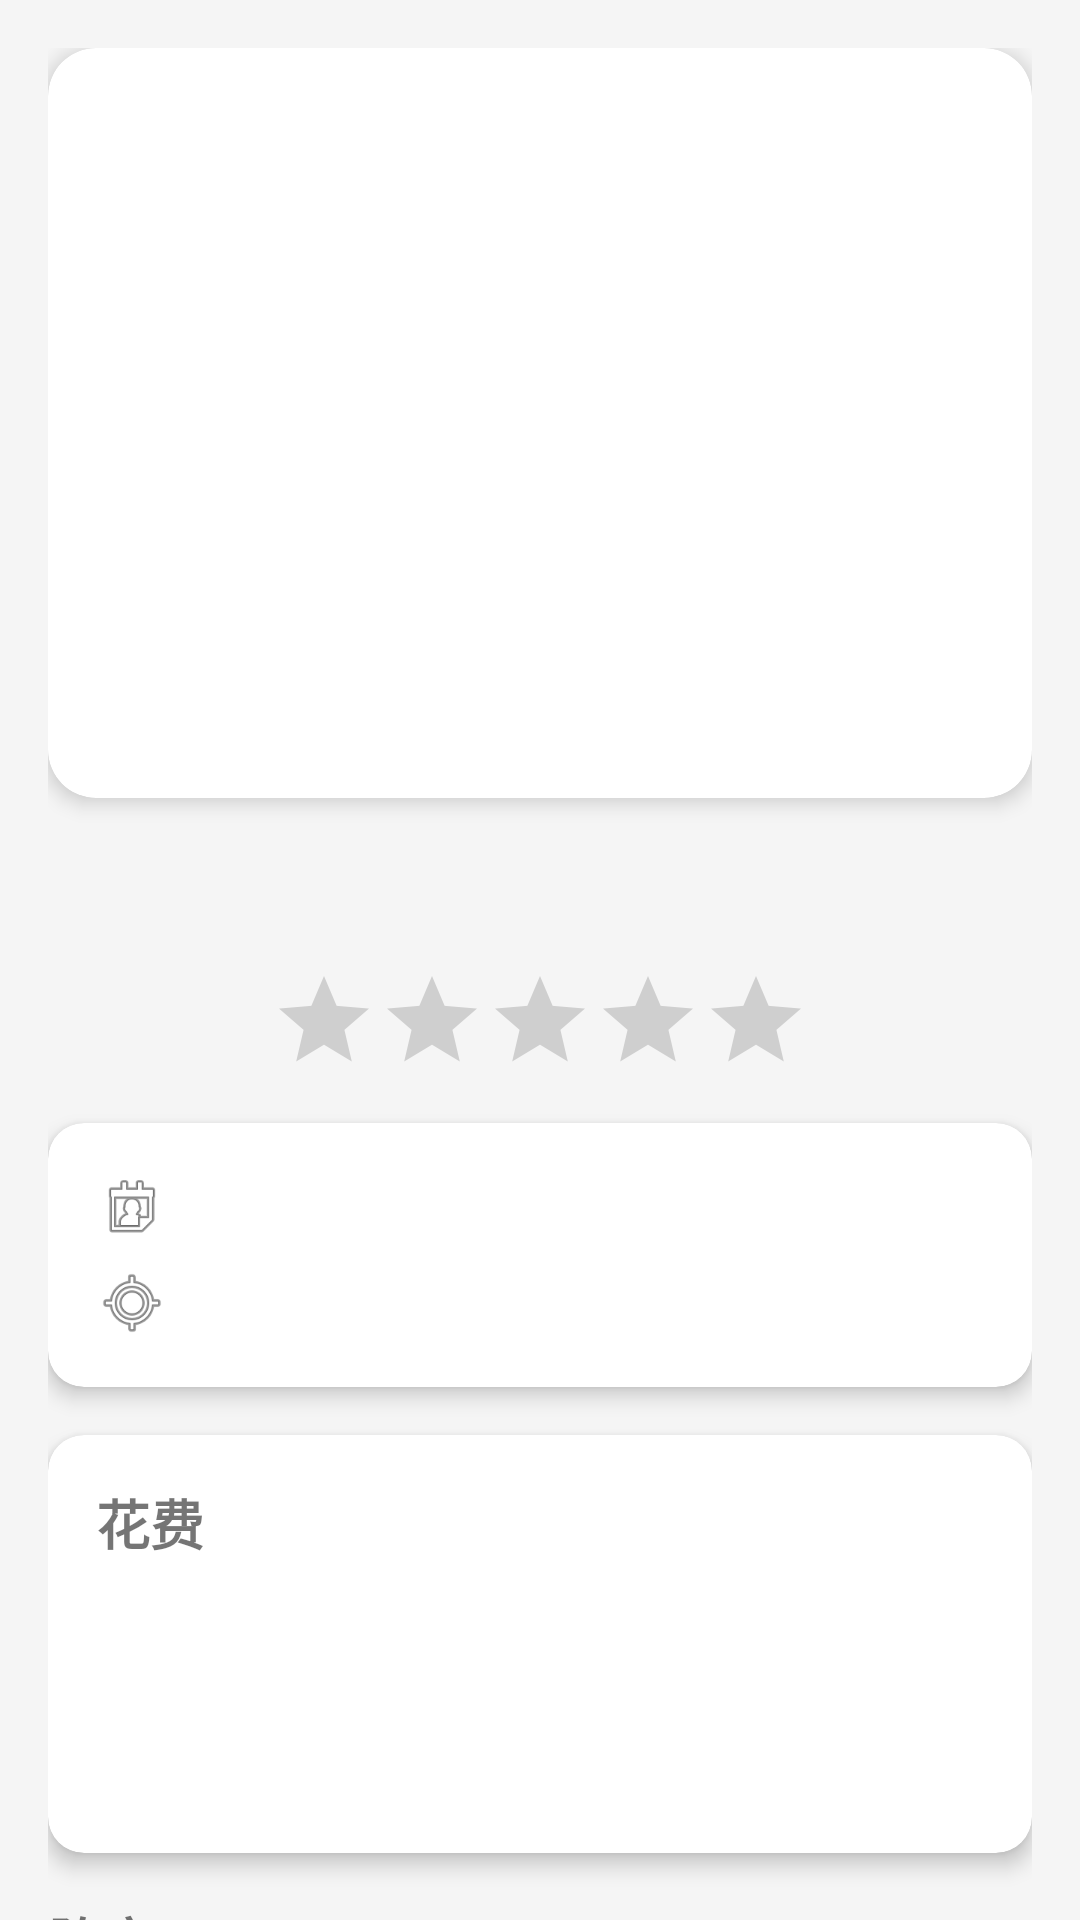

Locate icon controls on the screen. Image size 1080px×1920px, boxes as detection(x1, y1, x2, y2).
Date icon: detection(109, 1180, 155, 1233)
Location icon: detection(103, 1274, 161, 1332)
